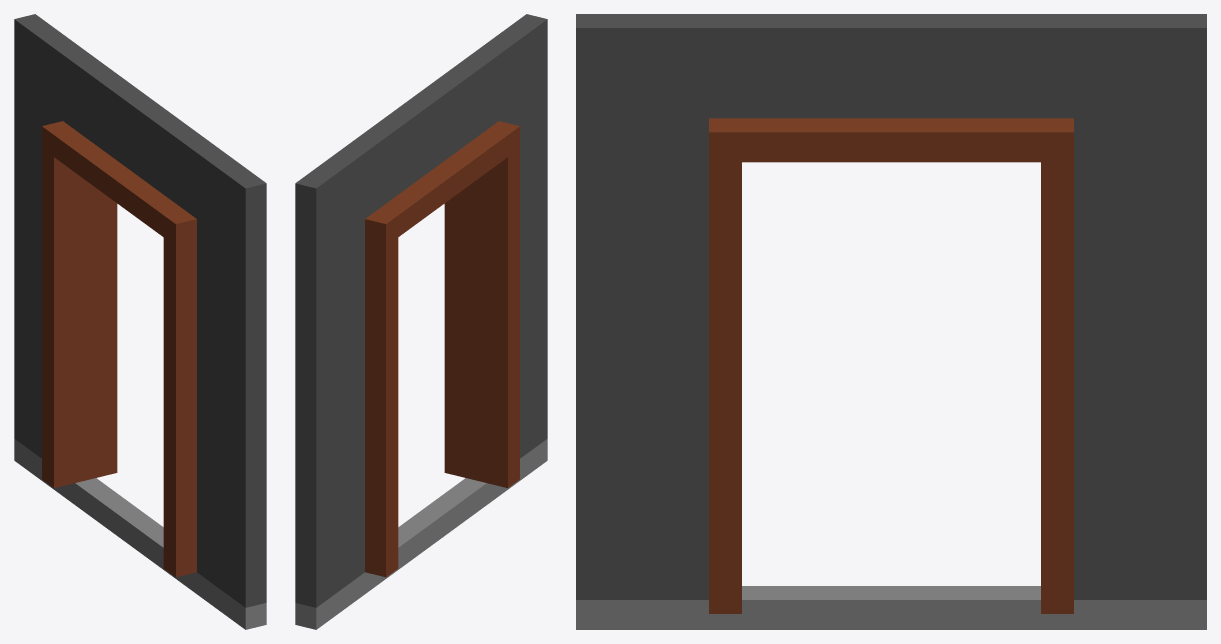
The model's file is Wall Doorway.obj.
3 renders of one model, left to right at view 1: azimuth 30°, elevation 25°; view 2: azimuth 150°, elevation 25°; view 3: azimuth 270°, elevation 25°, orthographic. The views are drawn at different scales.
Visible parts, largest first — view 1: Wall Doorway; view 2: Wall Doorway; view 3: Wall Doorway.
Boxes of the visible parts, x1=… form: Wall Doorway: x1=14, y1=14, x2=266, y2=629; Wall Doorway: x1=295, y1=14, x2=547, y2=629; Wall Doorway: x1=576, y1=14, x2=1206, y2=629.
Bounding box in the file's own units: 3 × 20 × 19.
